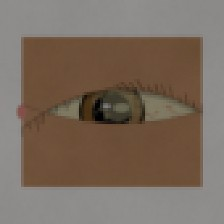corneal_ulcer: (90, 83, 145, 127)
